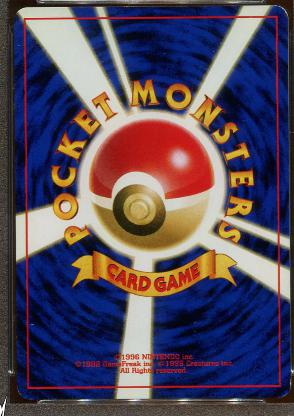Card: (14, 3, 291, 402)
Corner Wear: (276, 379, 291, 399), (271, 4, 288, 18), (16, 385, 26, 399)
Edge Wear: (15, 334, 17, 344)
